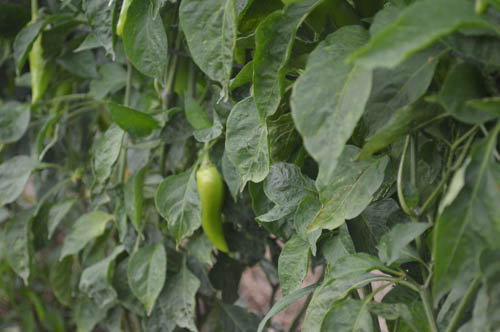ChiliPepper: (196, 170, 233, 249), (20, 27, 57, 105)
